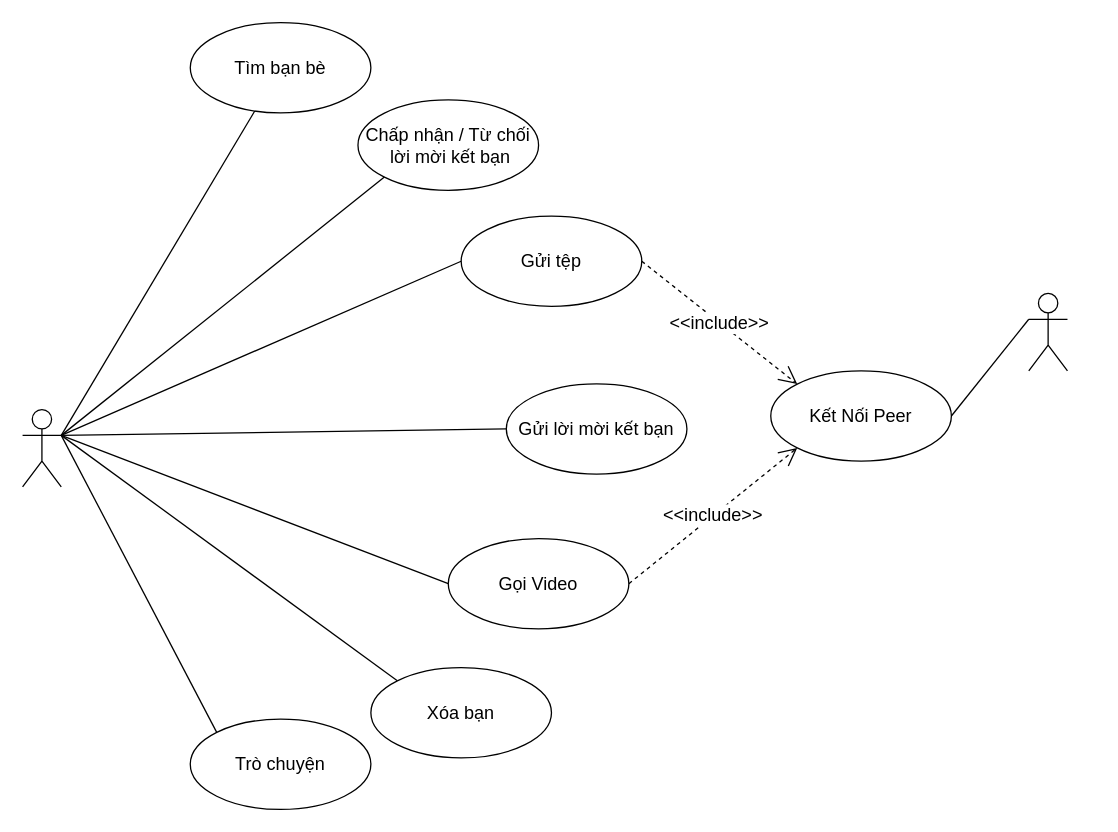
The diagram is 1118 pixels wide and 832 high, and some of its shapes have lost their labels. Each missing label, with the centre of its shape:
"Peer Server" belongs at point (1047, 331).
"User" belongs at point (41, 447).
